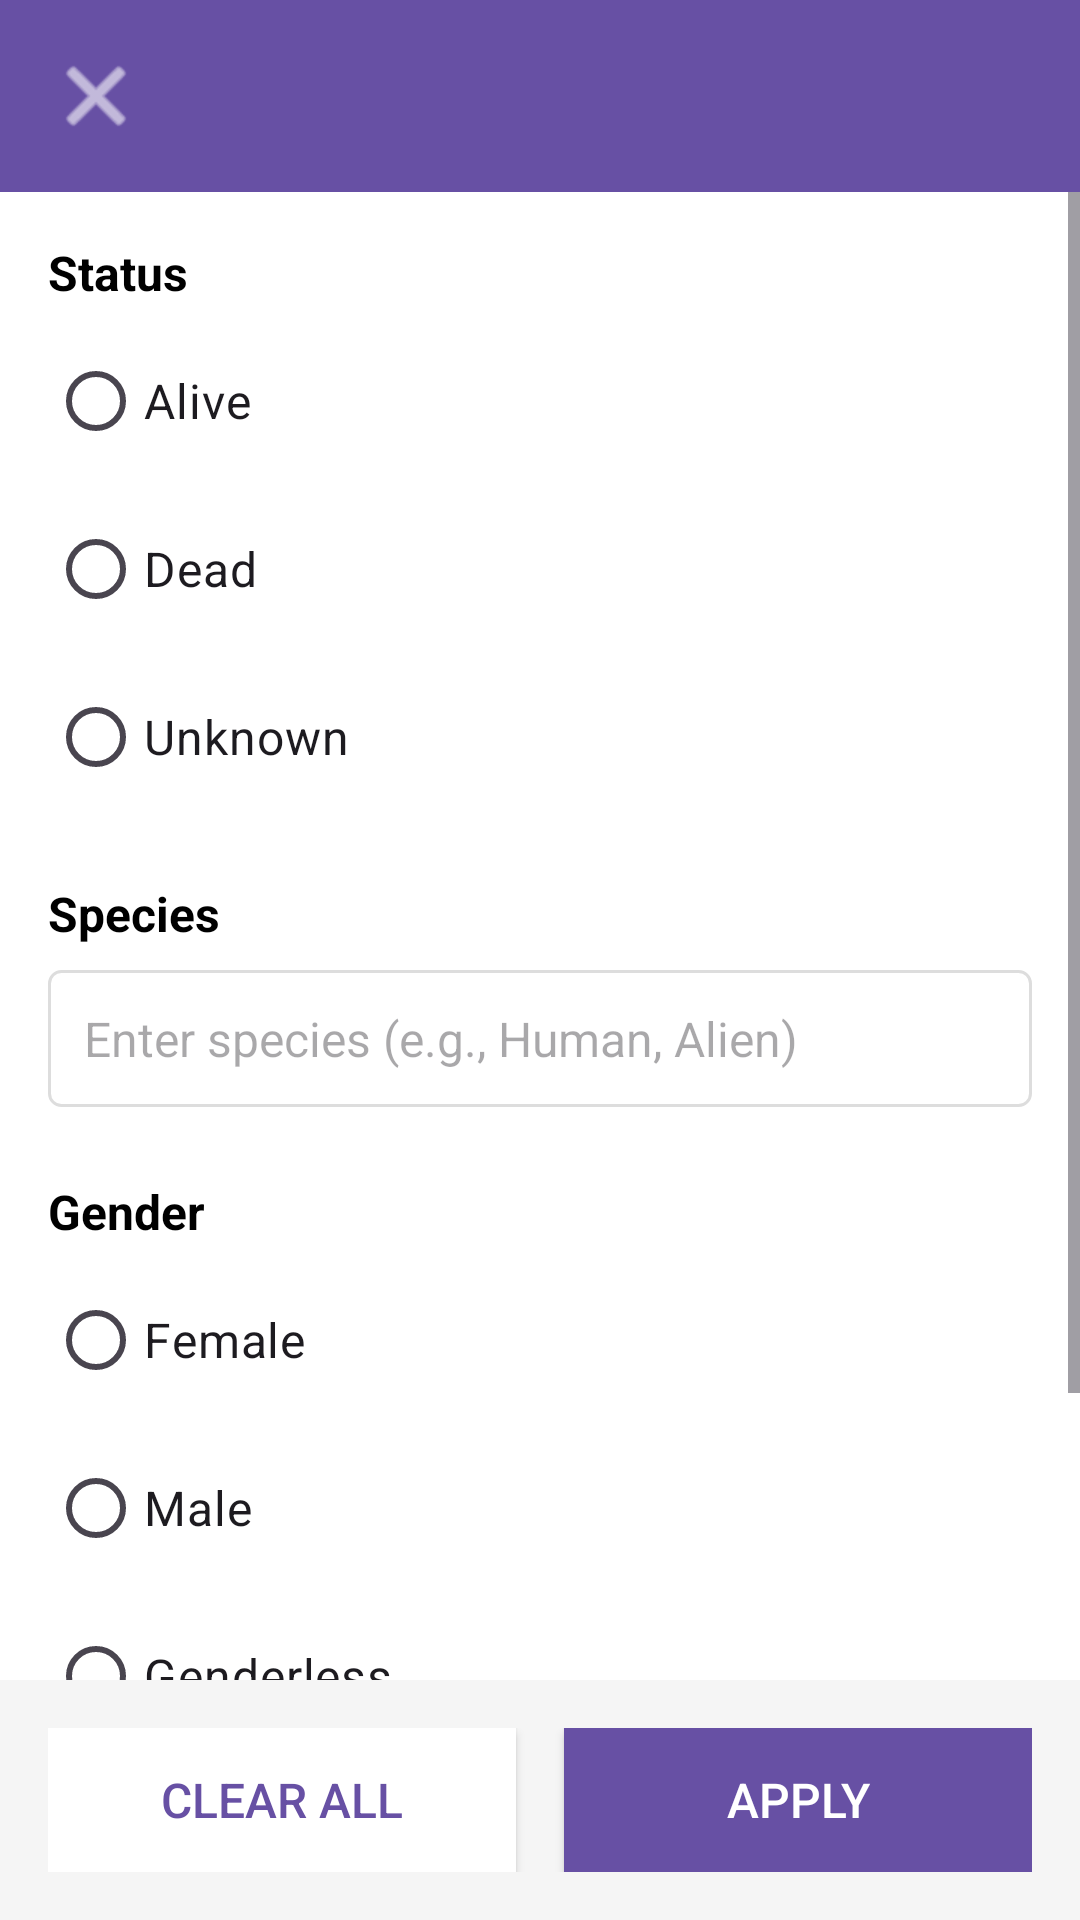

Locate icon controls on the screen. Image size 1080×1920, boxes as (x1, y1, x2, y2).
close clear cancel: (66, 66, 126, 126)
